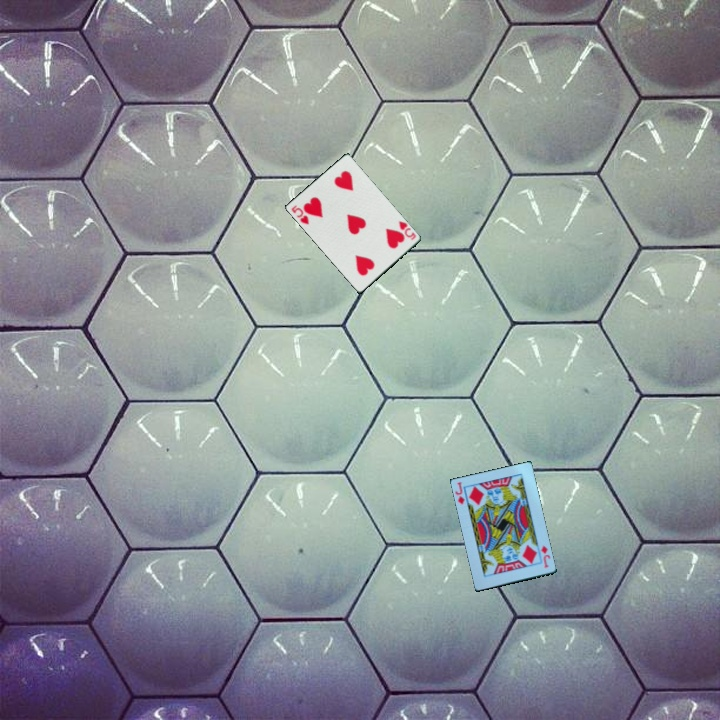5h: (395, 218, 419, 243), (288, 202, 312, 227)
Jd: (452, 478, 468, 507), (538, 542, 553, 571)
